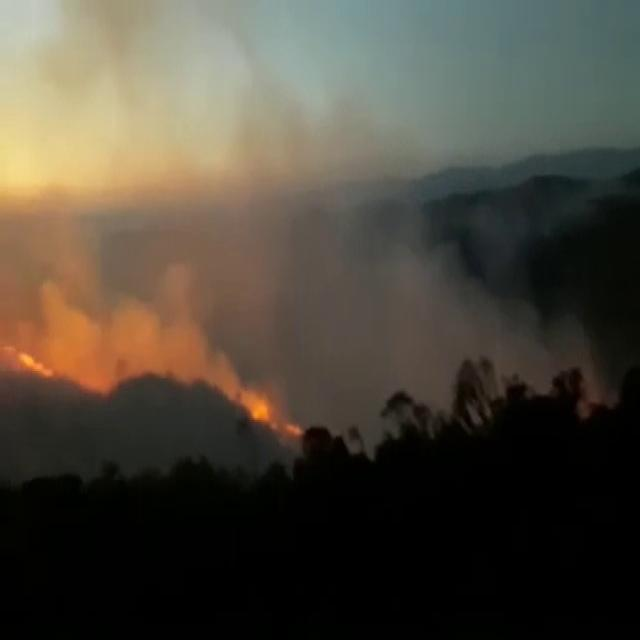Fire: (14, 344, 55, 376), (250, 398, 271, 427), (284, 415, 303, 438)
Smoke: (0, 145, 626, 393), (390, 218, 625, 426), (35, 0, 217, 198), (40, 231, 240, 405), (208, 74, 451, 198)
